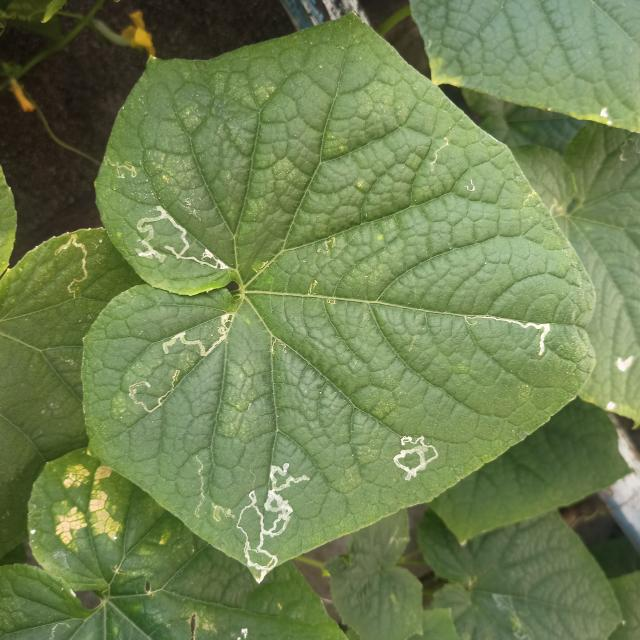disease_cucumber: (52, 463, 129, 557)
